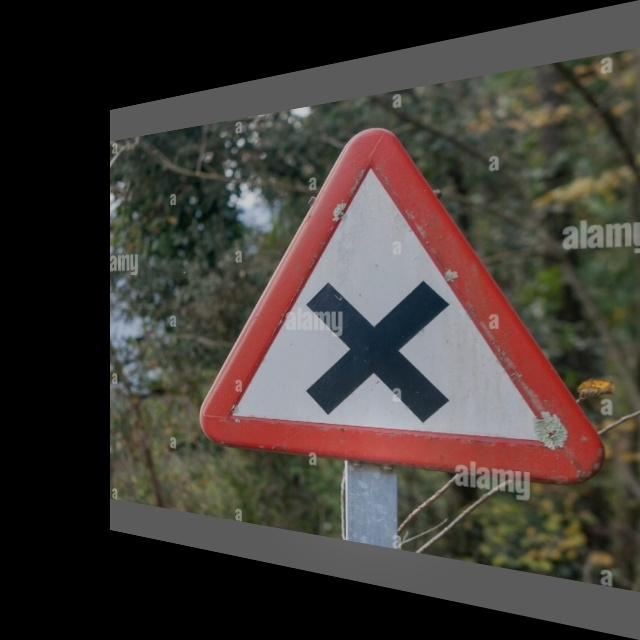Cross_Road: (204, 93, 600, 486)
